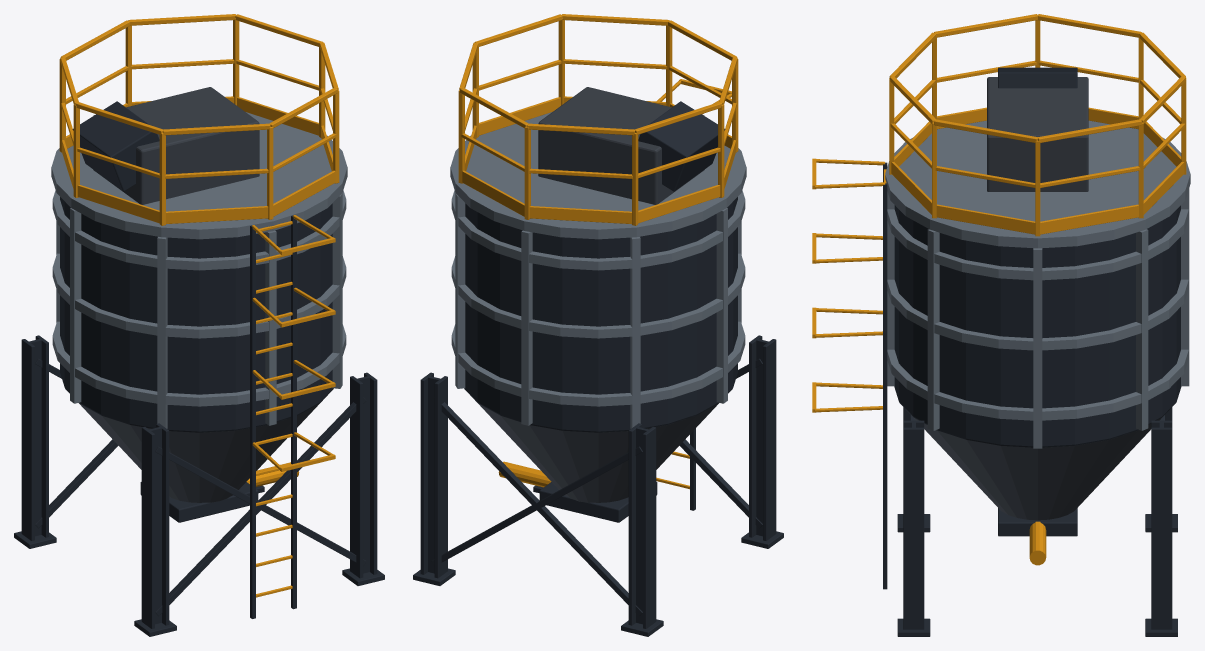
Rendered from surge_bin_bn201.glb.
The picture shows the model from 3 angles, left to right: view 1: azimuth 30°, elevation 25°; view 2: azimuth 150°, elevation 25°; view 3: azimuth 270°, elevation 25°; orthographic projection. The views are drawn at different scales.
Visible parts, largest first — view 1: BN201_UpperBody, BN201_TopDeck, BN201_ConvHood, BN201_BottomCone, BN201_HoodChute, BN201_RingRib_2.25, BN201_RingRib_2.95, BN201_RingRib_3.65, BN201_Leg_3_FlangeF, BN201_Leg_1_FlangeF, BN201_Leg_2_FlangeF, BN201_Ladder_RailB (+32 smaller); view 2: BN201_UpperBody, BN201_TopDeck, BN201_ConvHood, BN201_BottomCone, BN201_RingRib_2.95, BN201_RingRib_2.25, BN201_RingRib_3.65, BN201_HoodChute, BN201_Leg_1_FlangeF, BN201_Leg_3_FlangeF, BN201_Leg_4_FlangeF, BN201_BraceN_DiagA (+31 smaller); view 3: BN201_UpperBody, BN201_TopDeck, BN201_BottomCone, BN201_ConvHood, BN201_Leg_4_FlangeB, BN201_Leg_2_FlangeB, BN201_RingRib_2.25, BN201_RingRib_2.95, BN201_RingRib_3.65, BN201_VertRib_1, BN201_VertRib_7, BN201_Ladder_RailA (+20 smaller).
Part boxes in pixels (x1,y1,x2,y2): BN201_UpperBody: [60, 197, 333, 432]; BN201_TopDeck: [51, 112, 347, 239]; BN201_ConvHood: [93, 87, 259, 204]; BN201_BottomCone: [79, 395, 327, 502]; BN201_HoodChute: [72, 101, 159, 191]; BN201_RingRib_2.25: [52, 321, 346, 406]; BN201_RingRib_2.95: [52, 253, 346, 338]; BN201_RingRib_3.65: [52, 190, 346, 270]; BN201_Leg_3_FlangeF: [21, 339, 34, 540]; BN201_Leg_1_FlangeF: [141, 427, 154, 628]; BN201_Leg_2_FlangeF: [350, 376, 363, 578]; BN201_Ladder_RailB: [250, 225, 255, 618]; BN201_UpperBody: [464, 197, 737, 432]; BN201_TopDeck: [450, 112, 746, 239]; BN201_ConvHood: [538, 87, 704, 204]; BN201_BottomCone: [470, 395, 718, 502]; BN201_RingRib_2.95: [451, 253, 745, 338]; BN201_RingRib_2.25: [451, 321, 745, 406]; BN201_RingRib_3.65: [451, 190, 745, 270]; BN201_HoodChute: [638, 101, 725, 191]; BN201_Leg_1_FlangeF: [763, 339, 776, 540]; BN201_Leg_3_FlangeF: [643, 427, 656, 628]; BN201_Leg_4_FlangeF: [434, 376, 447, 578]; BN201_BraceN_DiagA: [431, 397, 642, 616]; BN201_UpperBody: [894, 205, 1181, 447]; BN201_TopDeck: [885, 120, 1190, 248]; BN201_BottomCone: [906, 408, 1170, 520]; BN201_ConvHood: [987, 77, 1088, 191]; BN201_Leg_4_FlangeB: [1151, 427, 1172, 629]; BN201_Leg_2_FlangeB: [903, 427, 924, 629]; BN201_RingRib_2.25: [887, 349, 1188, 420]; BN201_RingRib_2.95: [887, 279, 1188, 350]; BN201_RingRib_3.65: [887, 209, 1188, 280]; BN201_VertRib_1: [1136, 229, 1148, 430]; BN201_VertRib_7: [927, 229, 939, 430]; BN201_Ladder_RailA: [883, 183, 887, 589].
Bounding box in the file's own units: 2.76 × 5 × 3.42.
